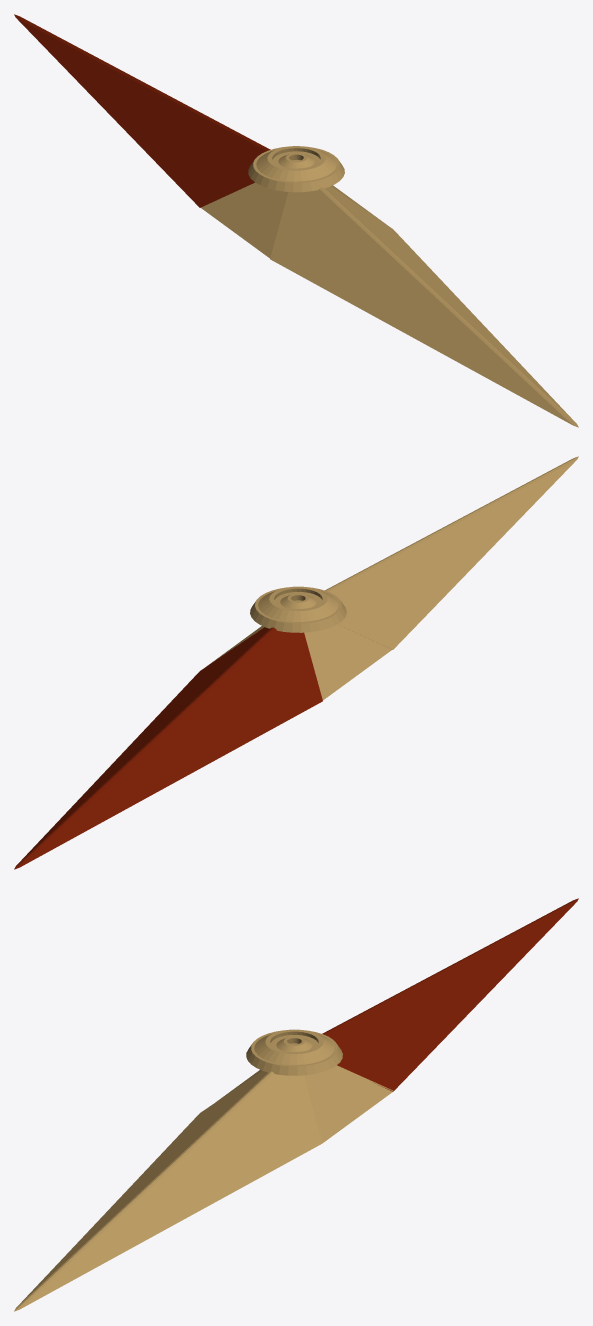
File: pointer30d.gltf
3 renders of one model, top to bottom at view 1: azimuth 30°, elevation 25°; view 2: azimuth 150°, elevation 25°; view 3: azimuth 330°, elevation 25°, orthographic.
Visible parts, largest first — view 1: Plane.001, Plane.002; view 2: Plane.002, Plane.001; view 3: Plane.001, Plane.002.
Boxes of the visible parts, <box> form: Plane.001: <box>201,146,578,427</box>; Plane.002: <box>14,14,270,207</box>; Plane.002: <box>14,627,322,869</box>; Plane.001: <box>204,456,578,700</box>; Plane.001: <box>14,1029,393,1311</box>; Plane.002: <box>322,898,578,1091</box>.
Size of the model in its own units: 0.2518 by 0.1253 by 2.
